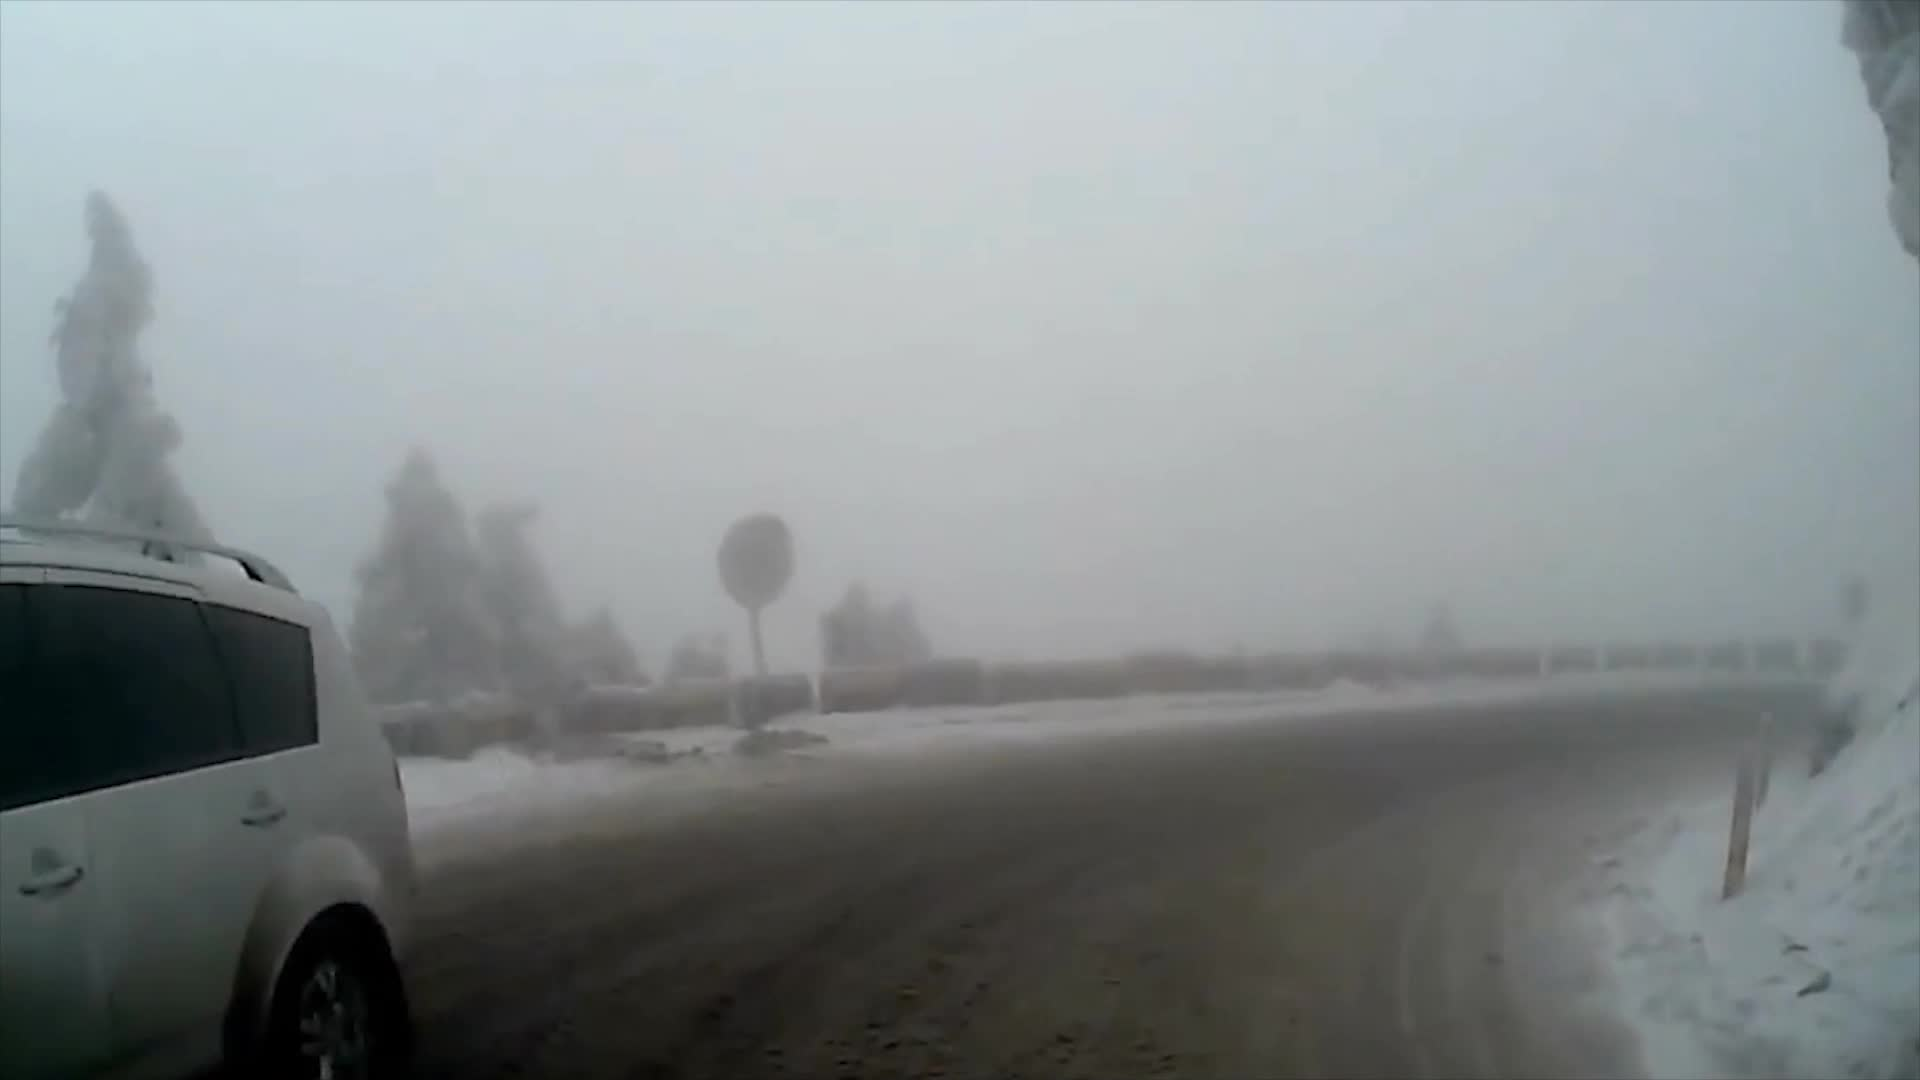vehicle: (0, 518, 419, 1080)
